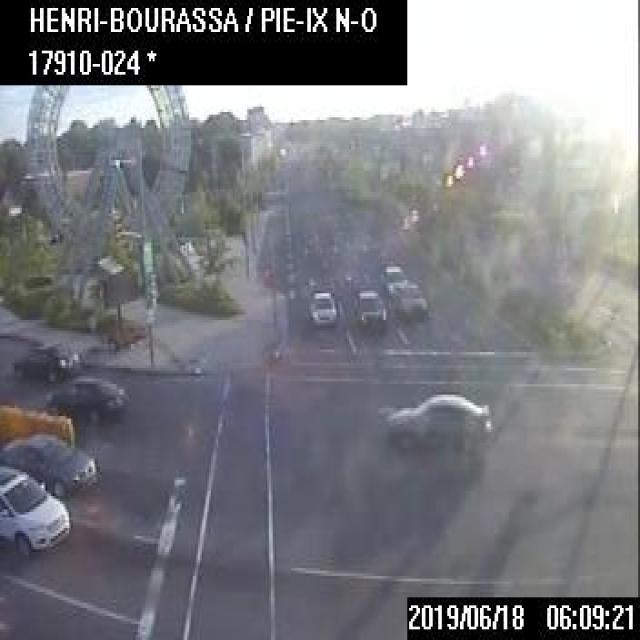construction: (101, 270, 144, 349)
vehicle: (0, 426, 96, 496), (0, 464, 69, 552), (384, 392, 491, 448), (43, 375, 128, 424), (11, 339, 78, 381), (391, 280, 426, 318), (353, 288, 385, 328), (307, 288, 335, 325), (380, 263, 406, 294)
